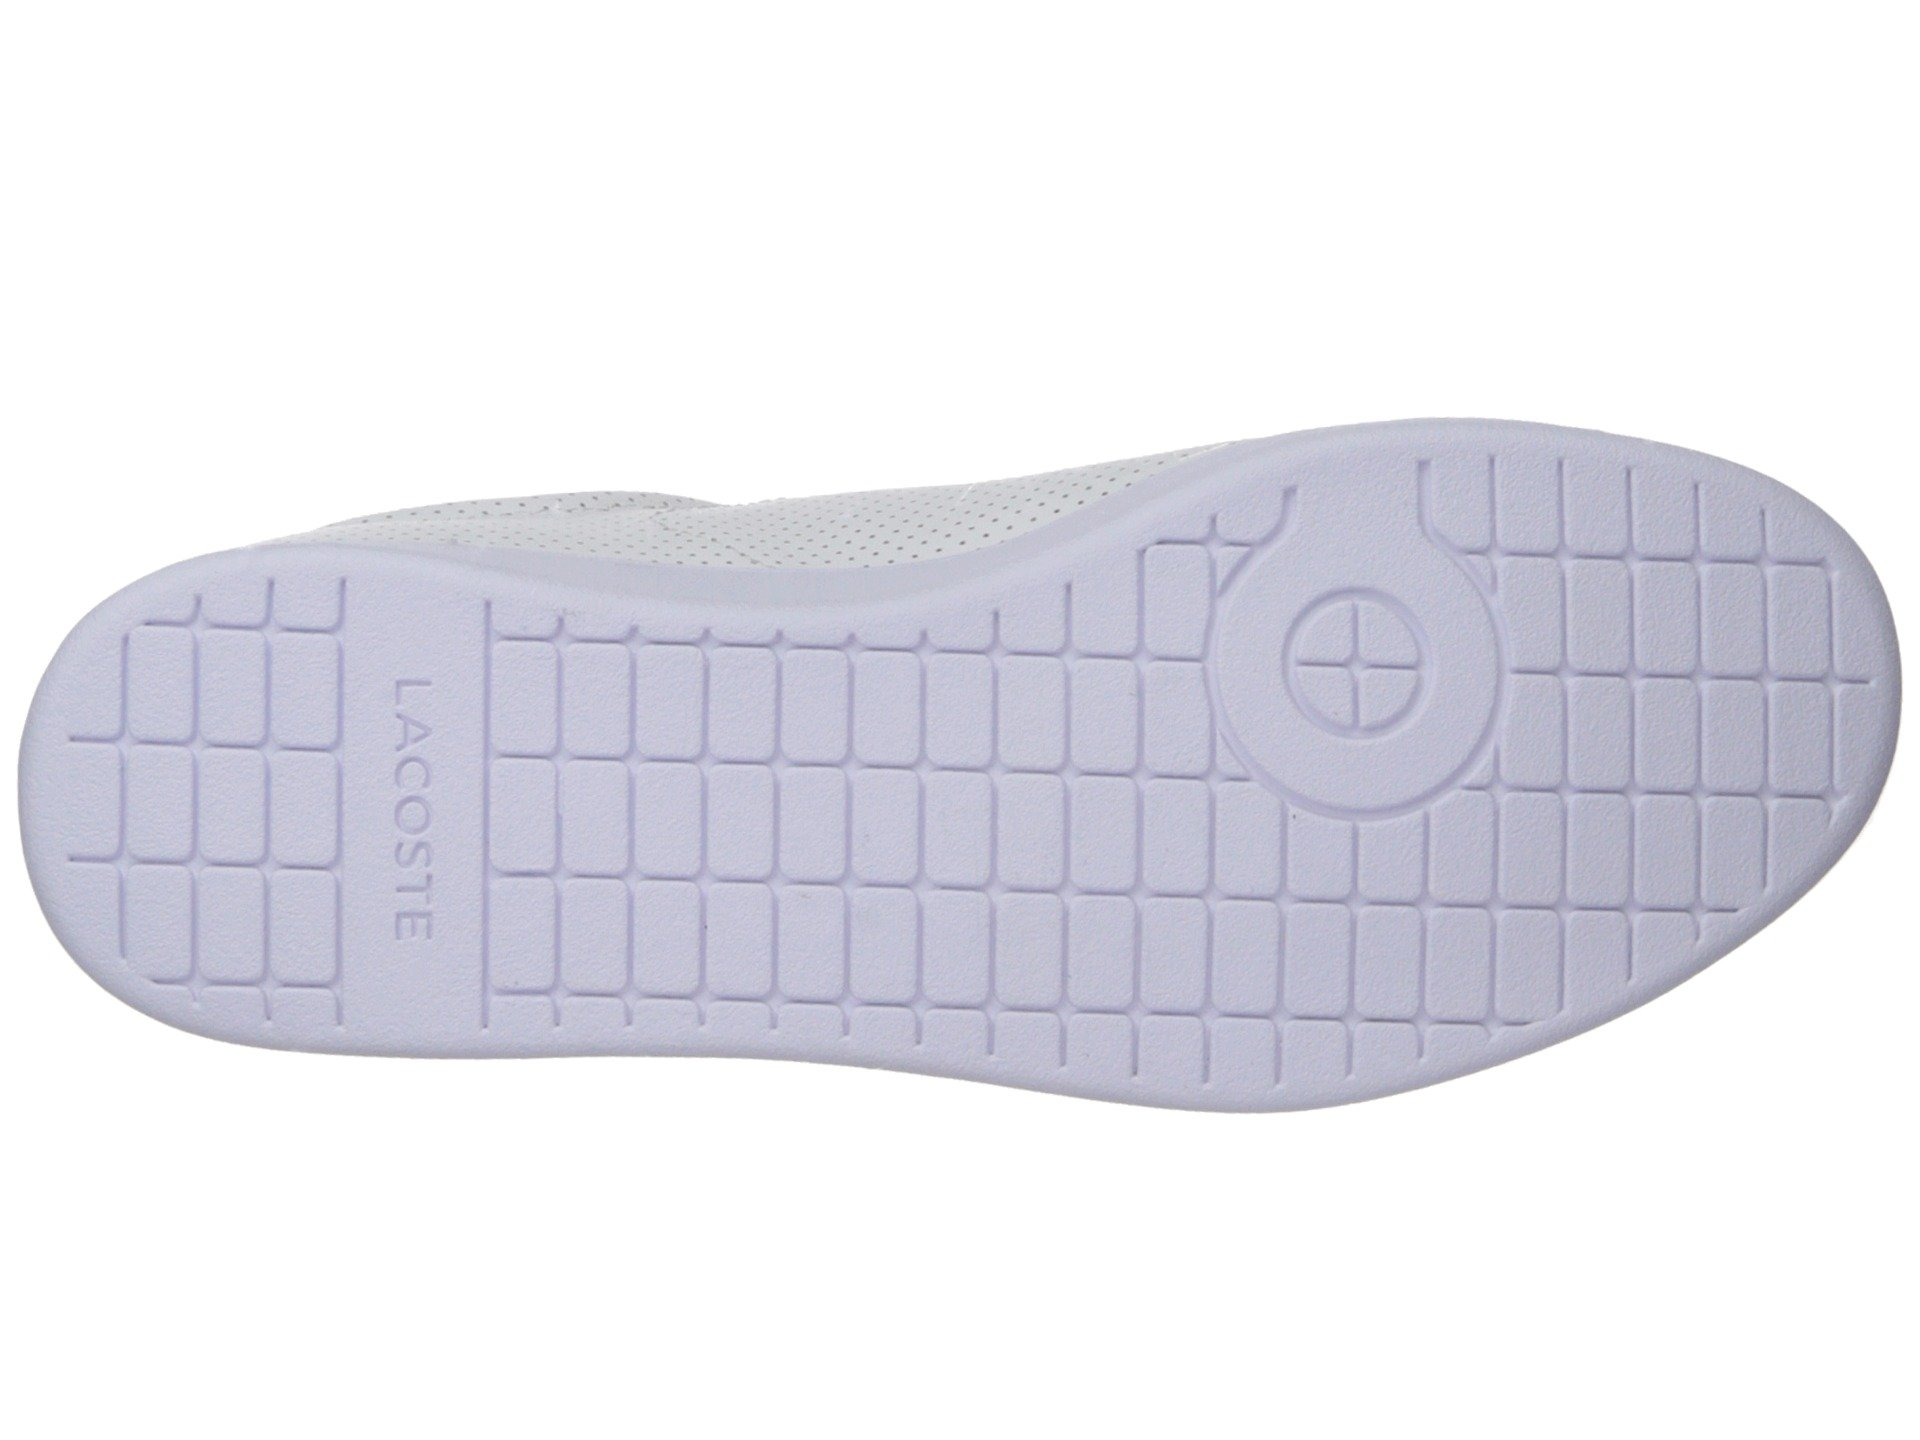circle: (1265, 584, 1436, 756)
quad: (485, 632, 1217, 1024), (1500, 551, 1838, 812), (136, 632, 336, 983), (1243, 883, 1569, 1024)
text: (386, 676, 449, 956)
triangle: (1265, 584, 1436, 756), (386, 676, 449, 956)
